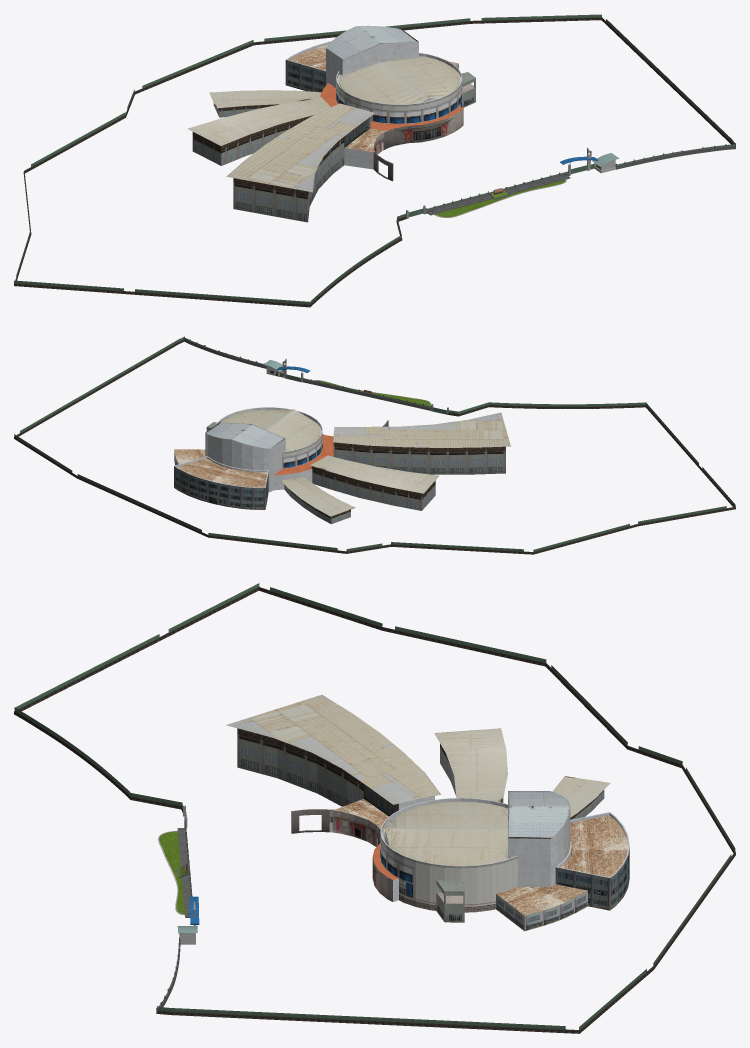
The model's file is tongkhu.glb.
3 renders of one model, top to bottom at view 1: azimuth 30°, elevation 25°; view 2: azimuth 150°, elevation 25°; view 3: azimuth 270°, elevation 25°, orthographic. The views are drawn at different scales.
Parts seen in each view (by area): view 1: BaoTang, BPH020_1; view 2: BaoTang, BPH020_1; view 3: BaoTang, BPH020_1.
Boxes of the visible parts, x1,y1,x2,y2 form: BaoTang: (187,25,475,222); BPH020_1: (14,14,735,307); BaoTang: (174,407,510,524); BPH020_1: (14,336,735,554); BaoTang: (226,694,629,931); BPH020_1: (14,583,735,1033).
Bounding box in the file's own units: 293 × 22.44 × 202.
2 materials, 2 textured.
